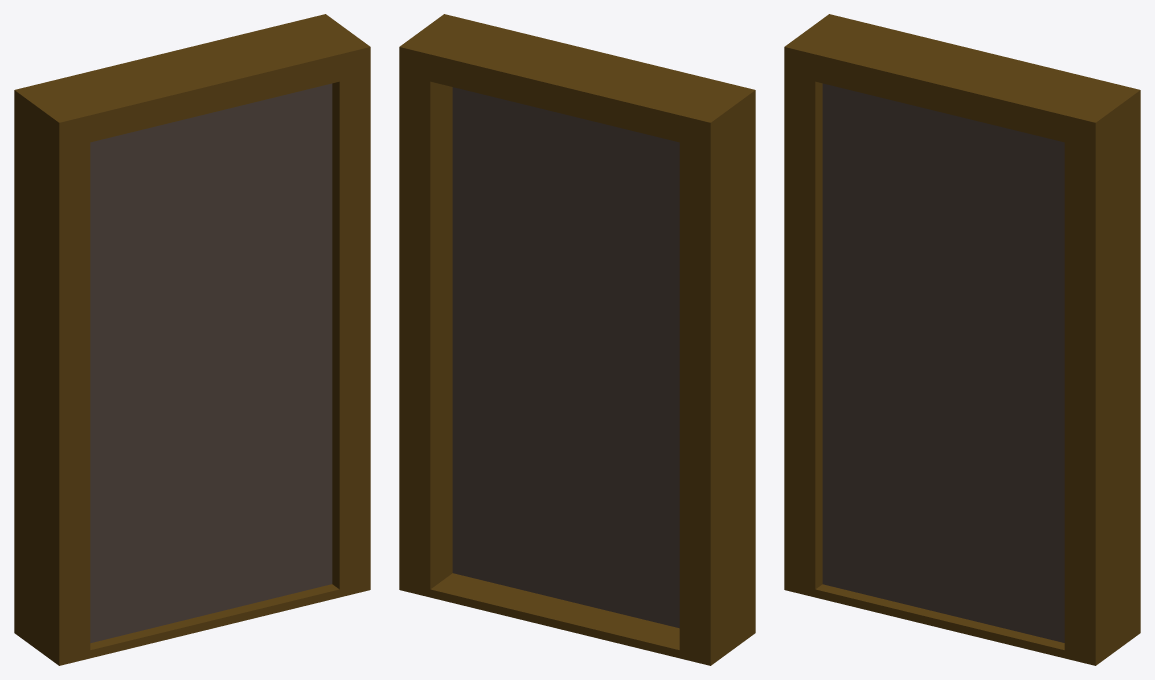
File: SmallCabinDoor.fbx
3 views of the same model, side by side, from view 1: azimuth 30°, elevation 25°; view 2: azimuth 150°, elevation 25°; view 3: azimuth 330°, elevation 25° (orthographic).
Visible parts, largest first — view 1: Door, DoorFrame; view 2: Door, DoorFrame; view 3: Door, DoorFrame.
Boxes of the visible parts, box(x1,y1,x2,y2) form: Door: box(90, 83, 332, 643); DoorFrame: box(14, 14, 370, 665); Door: box(452, 87, 679, 628); DoorFrame: box(399, 14, 755, 665); Door: box(822, 83, 1064, 642); DoorFrame: box(784, 14, 1140, 665).
Size of the model in its own units: 1.2 by 2 by 0.3.
